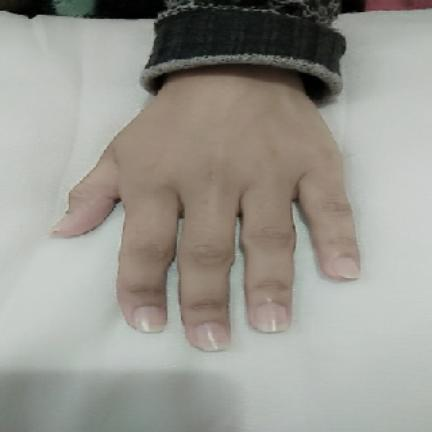Nail: (252, 302, 290, 332), (194, 322, 230, 351), (133, 306, 166, 332), (331, 257, 359, 279)
